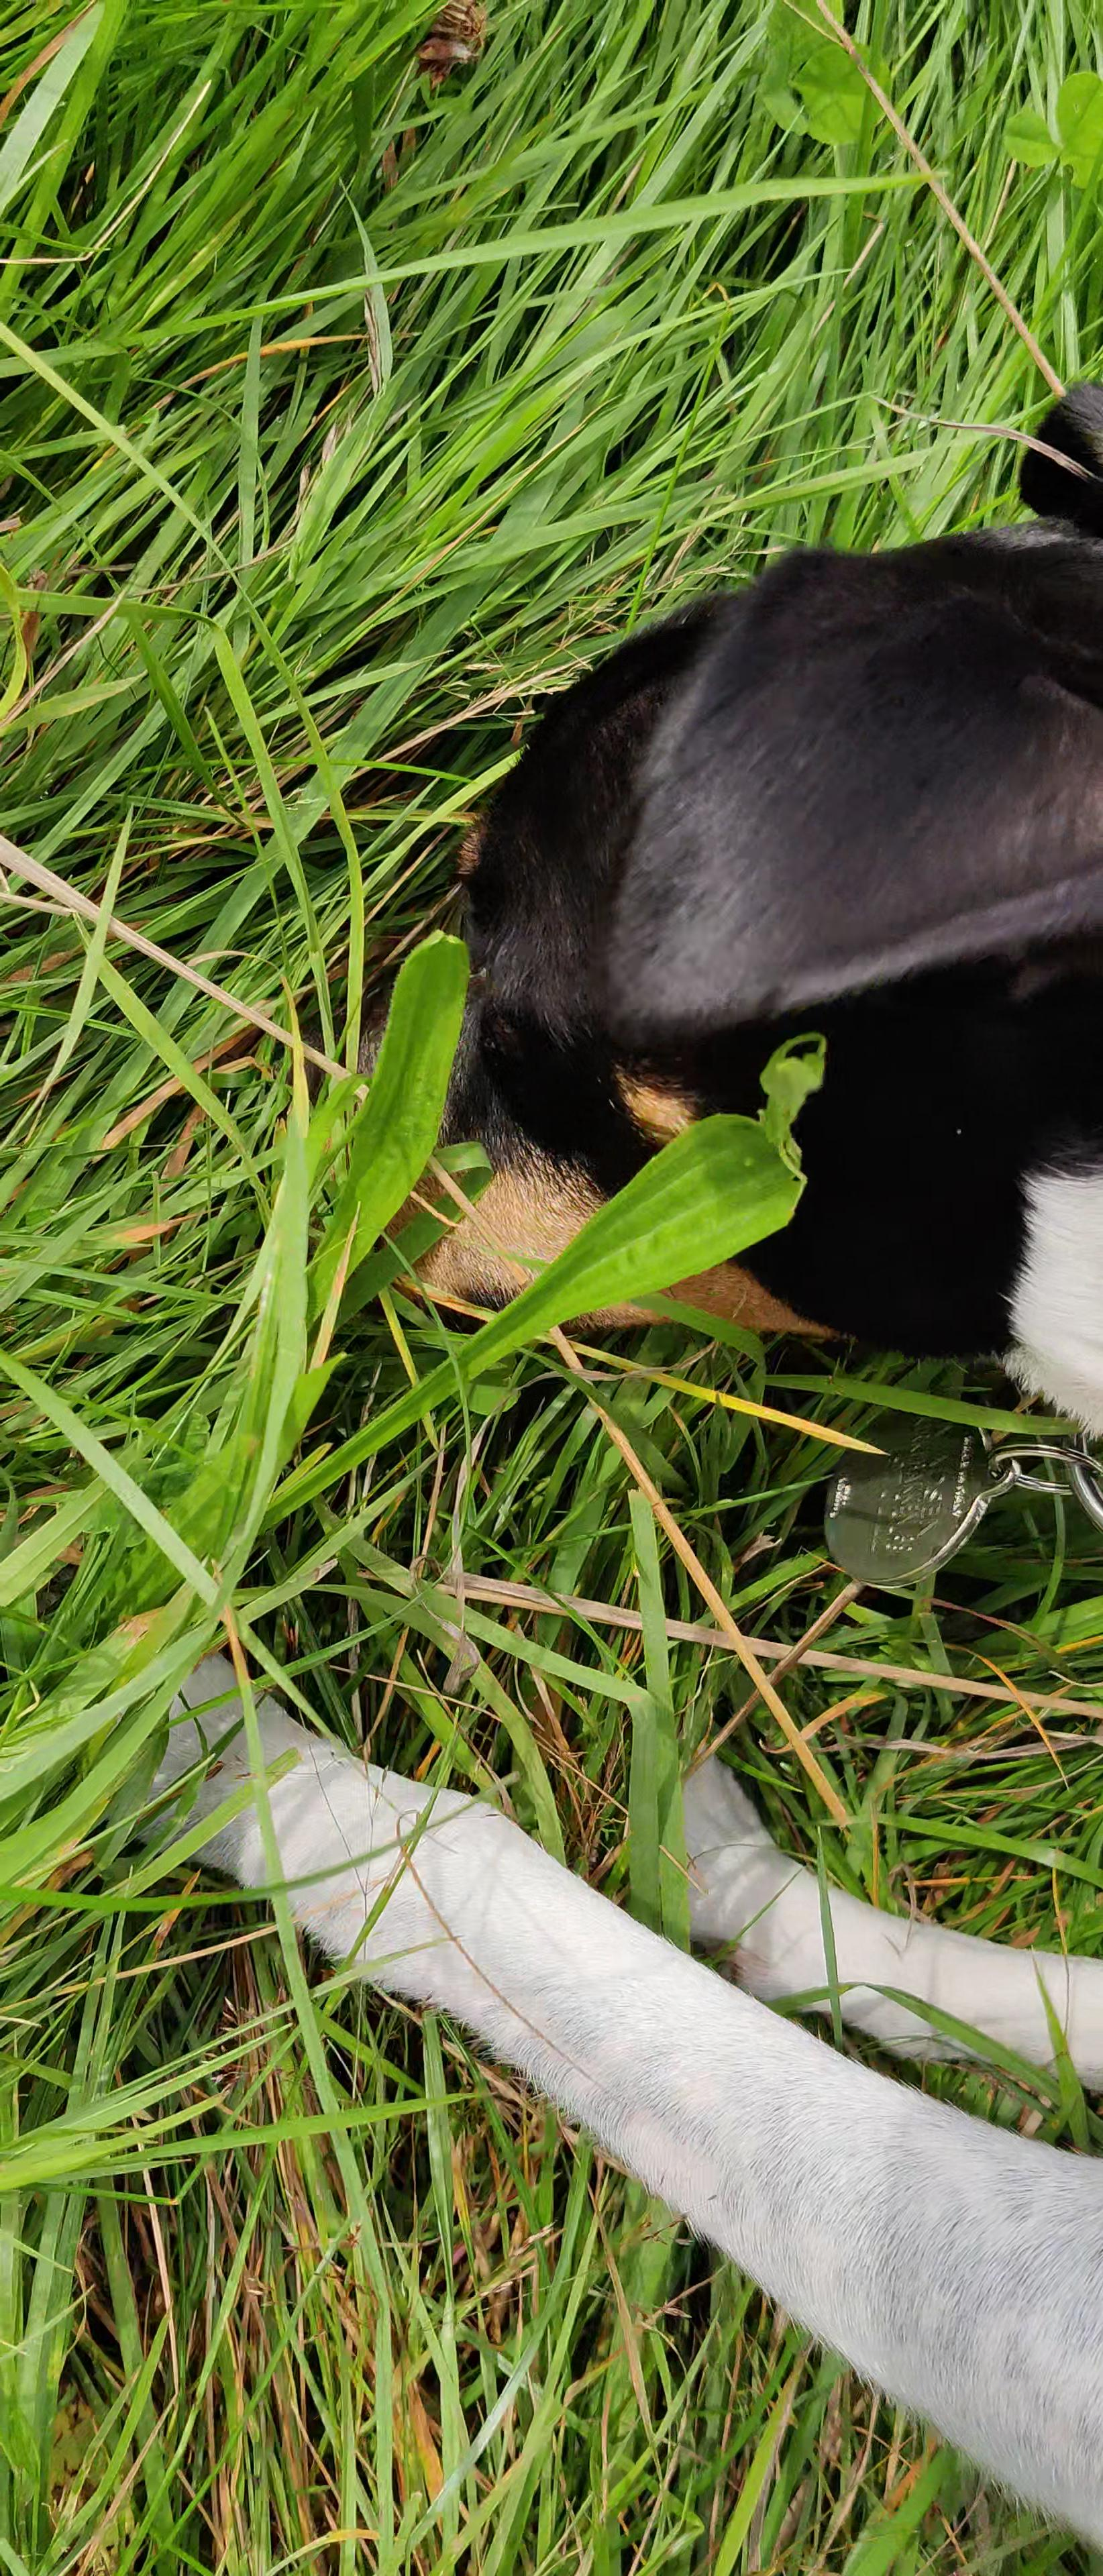Dog: (95, 345, 1103, 2537)
